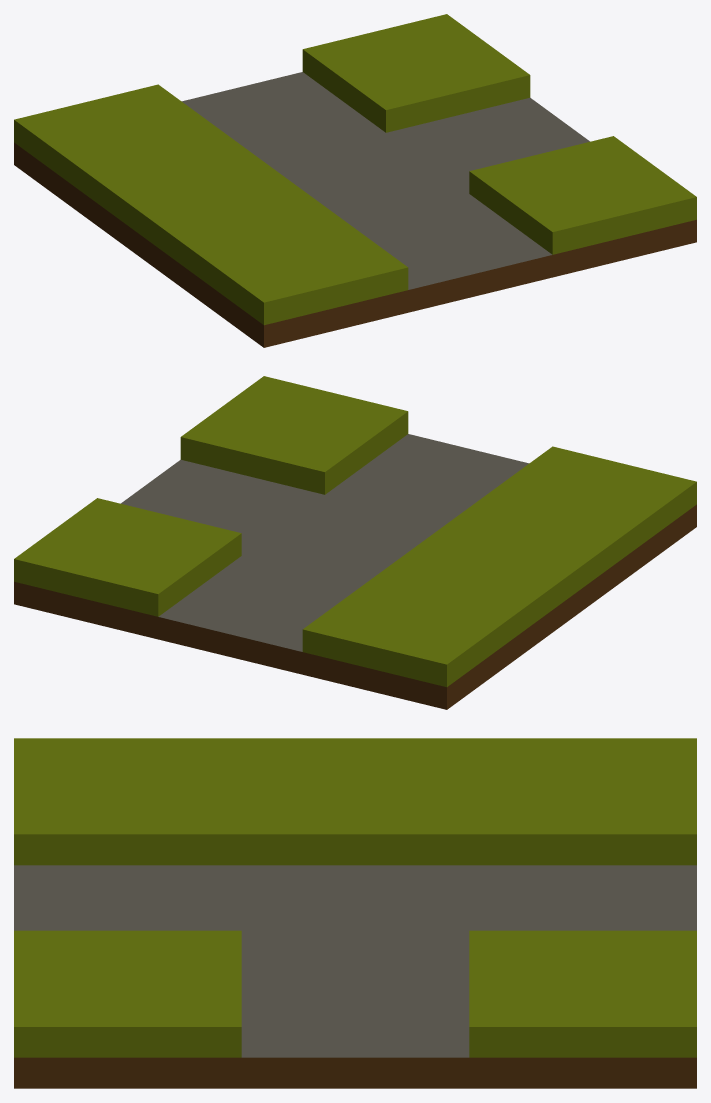
The model's file is CityCrossing_01.fbx.
3 views of the same model, one above another, from view 1: azimuth 30°, elevation 25°; view 2: azimuth 150°, elevation 25°; view 3: azimuth 270°, elevation 25° (orthographic). The views are drawn at different scales.
Visible parts, largest first — view 1: CityCrossing_01; view 2: CityCrossing_01; view 3: CityCrossing_01.
Part boxes in pixels (left/top/right/bottom): CityCrossing_01: left=14, top=14, right=696, bottom=347; CityCrossing_01: left=14, top=376, right=696, bottom=709; CityCrossing_01: left=14, top=738, right=696, bottom=1088.
Bounding box in the file's own units: 1 × 0.1 × 1.
